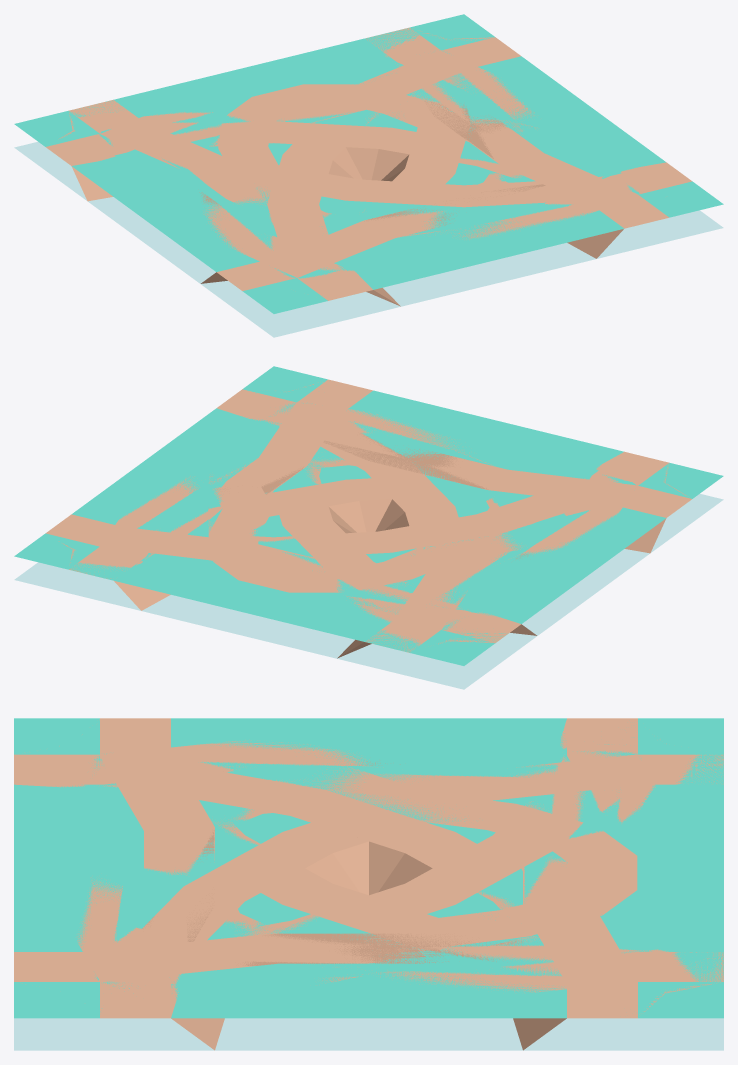
File: river.fbx
The picture shows the model from 3 angles, top to bottom: view 1: azimuth 30°, elevation 25°; view 2: azimuth 150°, elevation 25°; view 3: azimuth 270°, elevation 25°; orthographic projection. The views are drawn at different scales.
Visible parts, largest first — view 1: 0-way, 2-way-curve-north, 1-way-south, 1-way-north, 2-way-curve-east, 1-way-west, 2-way-curve-south, 2-way-curve-west, 1-way-east, 4-way-mirror-south, 4-way-mirror-west, 5-way-north (+18 smaller); view 2: 0-way, 2-way-curve-north, 1-way-south, 1-way-north, 2-way-curve-east, 2-way-curve-west, 1-way-west, 2-way-curve-south, 1-way-east, 4-way-mirror-north, 4-way-mirror-west, 5-way-edge-south (+17 smaller); view 3: 0-way, 2-way-curve-north, 2-way-curve-east, 1-way-south, 1-way-west, 1-way-north, 2-way-curve-west, 2-way-curve-south, 5-way-edge-north, 4-way-mirror-east, 4-way-cross, 1-way-east (+18 smaller).
Part boxes in pixels (x1=…): 0-way: x1=15, y1=14, x2=599, y2=230; 2-way-curve-north: x1=279, y1=15, x2=708, y2=265; 1-way-south: x1=146, y1=101, x2=717, y2=313; 1-way-north: x1=17, y1=15, x2=597, y2=235; 2-way-curve-east: x1=149, y1=112, x2=721, y2=311; 1-way-west: x1=18, y1=112, x2=522, y2=289; 2-way-curve-south: x1=18, y1=109, x2=623, y2=306; 2-way-curve-west: x1=15, y1=28, x2=563, y2=212; 1-way-east: x1=250, y1=19, x2=690, y2=262; 4-way-mirror-south: x1=218, y1=254, x2=586, y2=306; 4-way-mirror-west: x1=17, y1=100, x2=194, y2=273; 5-way-north: x1=236, y1=182, x2=723, y2=313; 0-way: x1=14, y1=451, x2=609, y2=665; 2-way-curve-north: x1=33, y1=366, x2=533, y2=657; 1-way-south: x1=146, y1=374, x2=710, y2=563; 1-way-north: x1=14, y1=455, x2=608, y2=665; 2-way-curve-east: x1=248, y1=372, x2=665, y2=564; 2-way-curve-west: x1=64, y1=446, x2=666, y2=664; 1-way-west: x1=309, y1=423, x2=708, y2=664; 2-way-curve-south: x1=252, y1=457, x2=715, y2=663; 1-way-east: x1=50, y1=368, x2=523, y2=572; 4-way-mirror-north: x1=44, y1=515, x2=335, y2=658; 4-way-mirror-west: x1=366, y1=556, x2=645, y2=662; 5-way-edge-south: x1=339, y1=494, x2=722, y2=687; 0-way: x1=263, y1=718, x2=723, y2=1018; 2-way-curve-north: x1=14, y1=800, x2=723, y2=1050; 2-way-curve-east: x1=14, y1=718, x2=566, y2=1050; 1-way-south: x1=14, y1=718, x2=408, y2=1018; 1-way-west: x1=14, y1=718, x2=716, y2=934; 1-way-north: x1=231, y1=718, x2=723, y2=1018; 2-way-curve-west: x1=207, y1=726, x2=723, y2=1018; 2-way-curve-south: x1=14, y1=718, x2=721, y2=936; 5-way-edge-north: x1=14, y1=1018, x2=723, y2=1050; 4-way-mirror-east: x1=16, y1=952, x2=522, y2=1050; 4-way-cross: x1=14, y1=718, x2=723, y2=1050; 1-way-east: x1=14, y1=818, x2=656, y2=1018.
Size of the model in its own units: 100 by 5 by 100.
